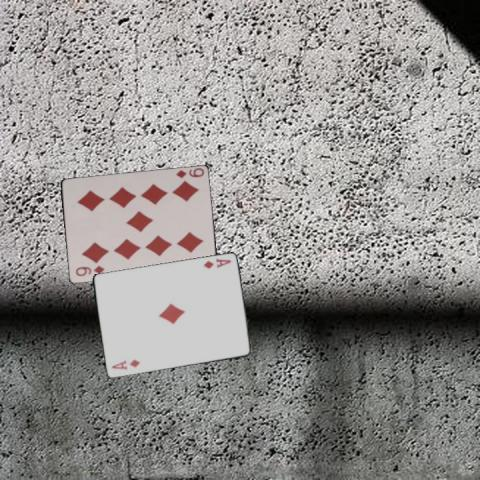9d: (73, 263, 105, 278), (173, 166, 205, 179)
Ad: (109, 357, 140, 371), (201, 256, 232, 270)
